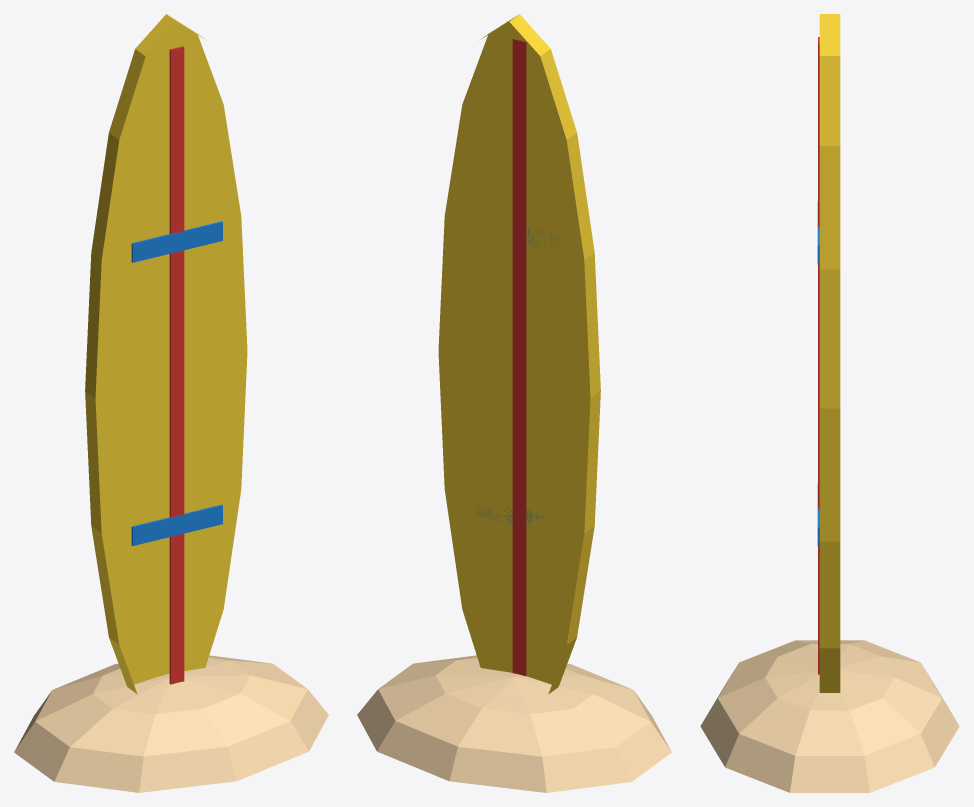
File: surfbrada.glb
3 renders of one model, left to right at view 1: azimuth 30°, elevation 25°; view 2: azimuth 150°, elevation 25°; view 3: azimuth 270°, elevation 25°, orthographic.
Visible parts, largest first — view 1: surfbrada; view 2: surfbrada; view 3: surfbrada.
Boxes of the visible parts, bbox=[...] form: surfbrada: bbox=[14, 14, 328, 792]; surfbrada: bbox=[357, 14, 671, 792]; surfbrada: bbox=[700, 14, 959, 792].
Size of the model in its own units: 0.6087 by 1.52 by 0.5001.
